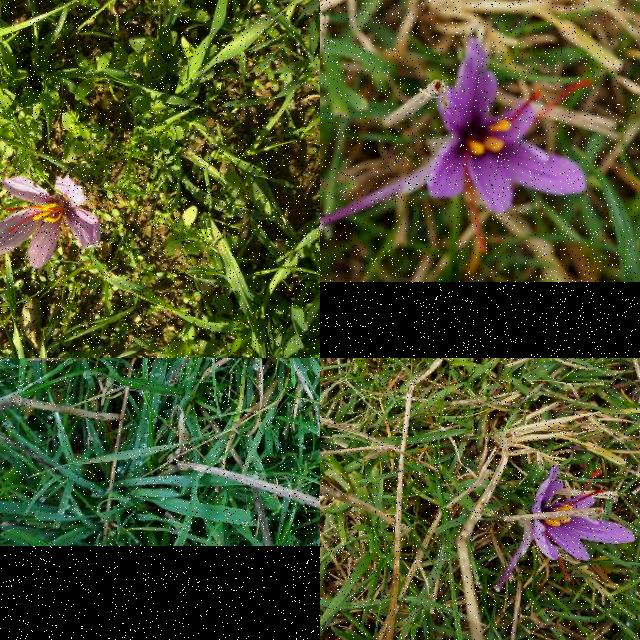flower: (428, 38, 594, 254), (0, 177, 100, 269), (536, 469, 636, 558)
